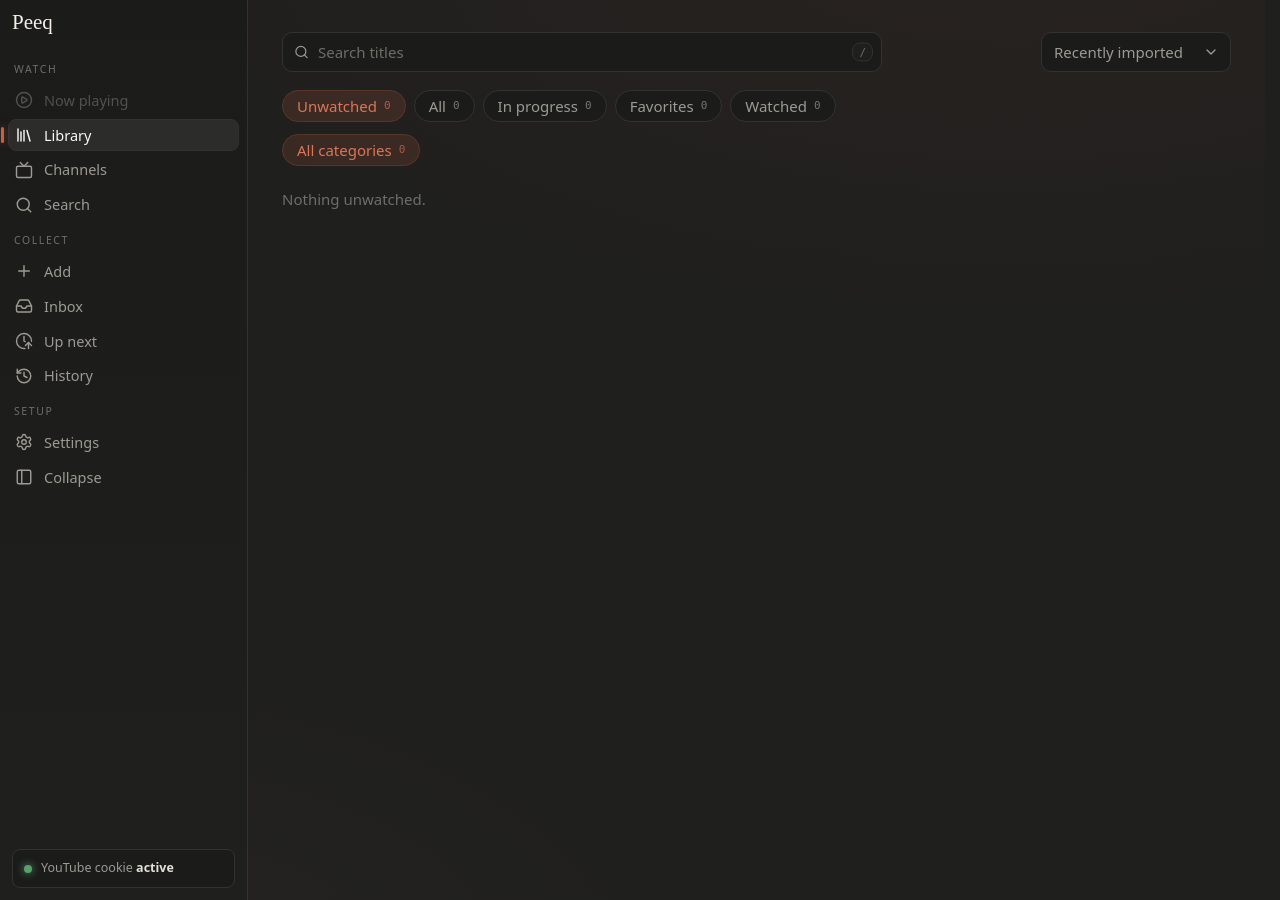
Test case: App dock bootstrap › refreshes the download queue after the Add view queues a video
Check: the button "Up next" is shown, box x1=8 y1=325 x2=239 y2=357
Click the button "Add": coordinates (124, 271) x1=8 y1=255 x2=239 y2=288
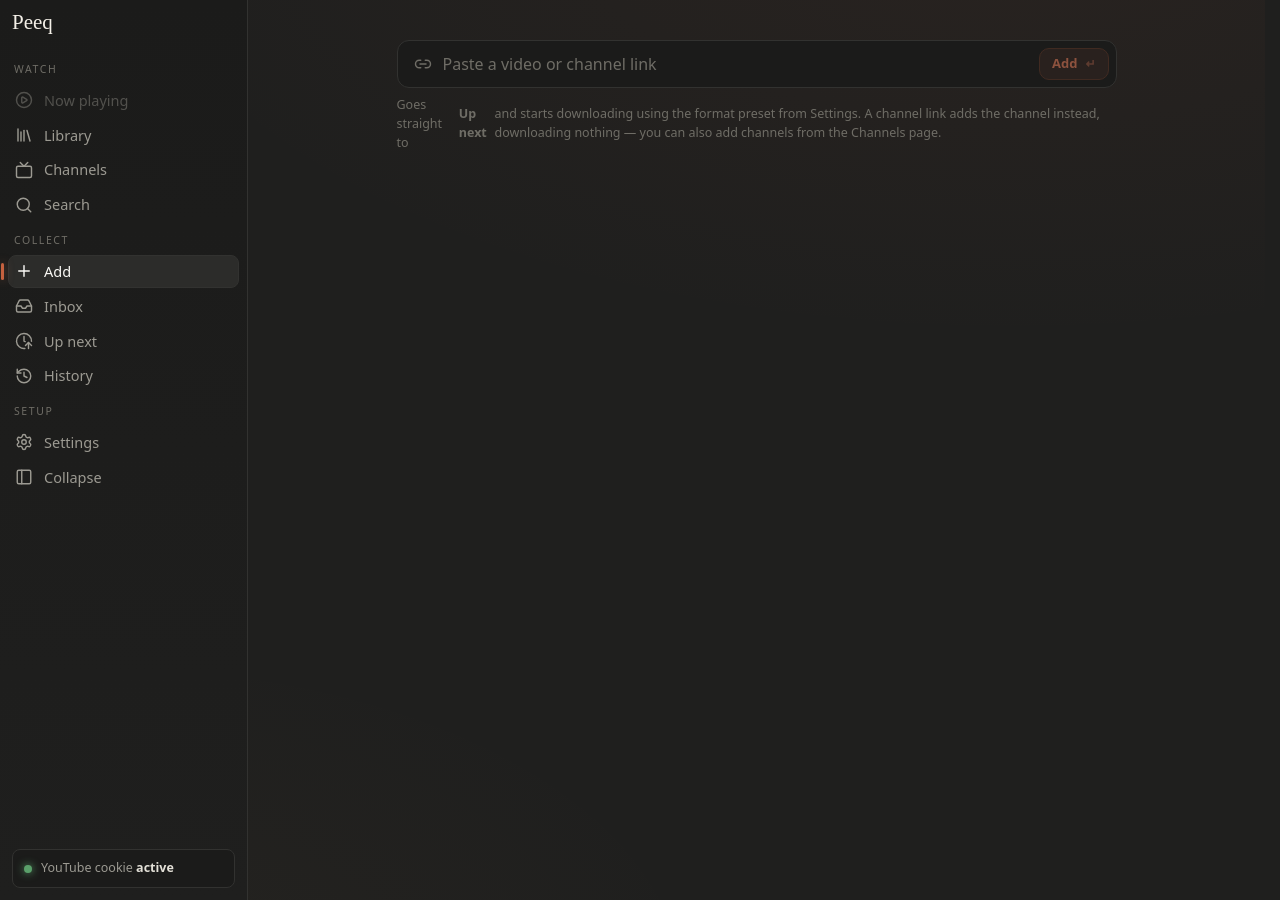
In the field named "Video or channel URL": coordinates (736, 64) x1=442 y1=52 x2=1029 y2=76, type "https://www.youtube.com/watch?v=vynCRZwkWhE&t=68s"
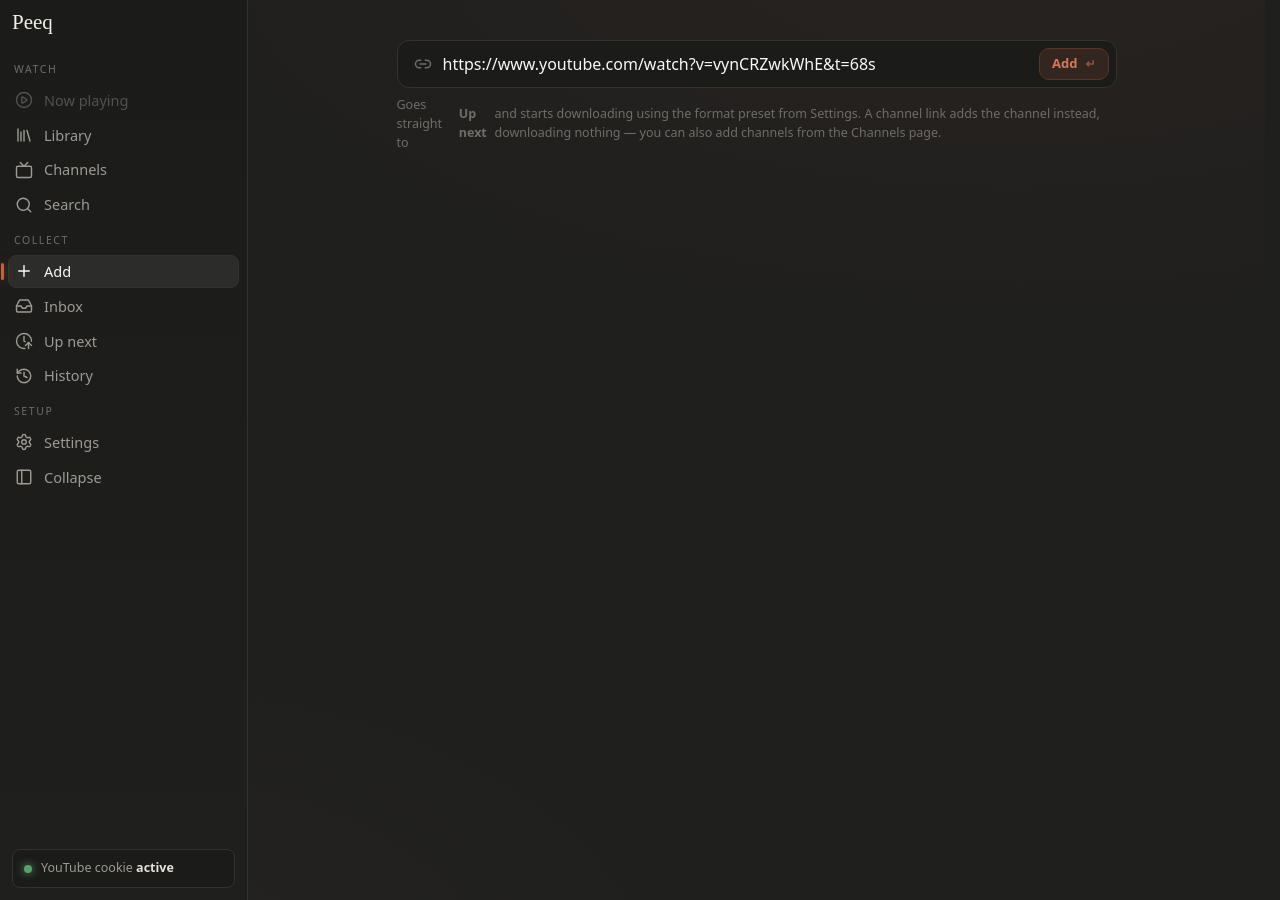
Click the button "Add ↵": coordinates (1074, 64) x1=1039 y1=48 x2=1108 y2=80
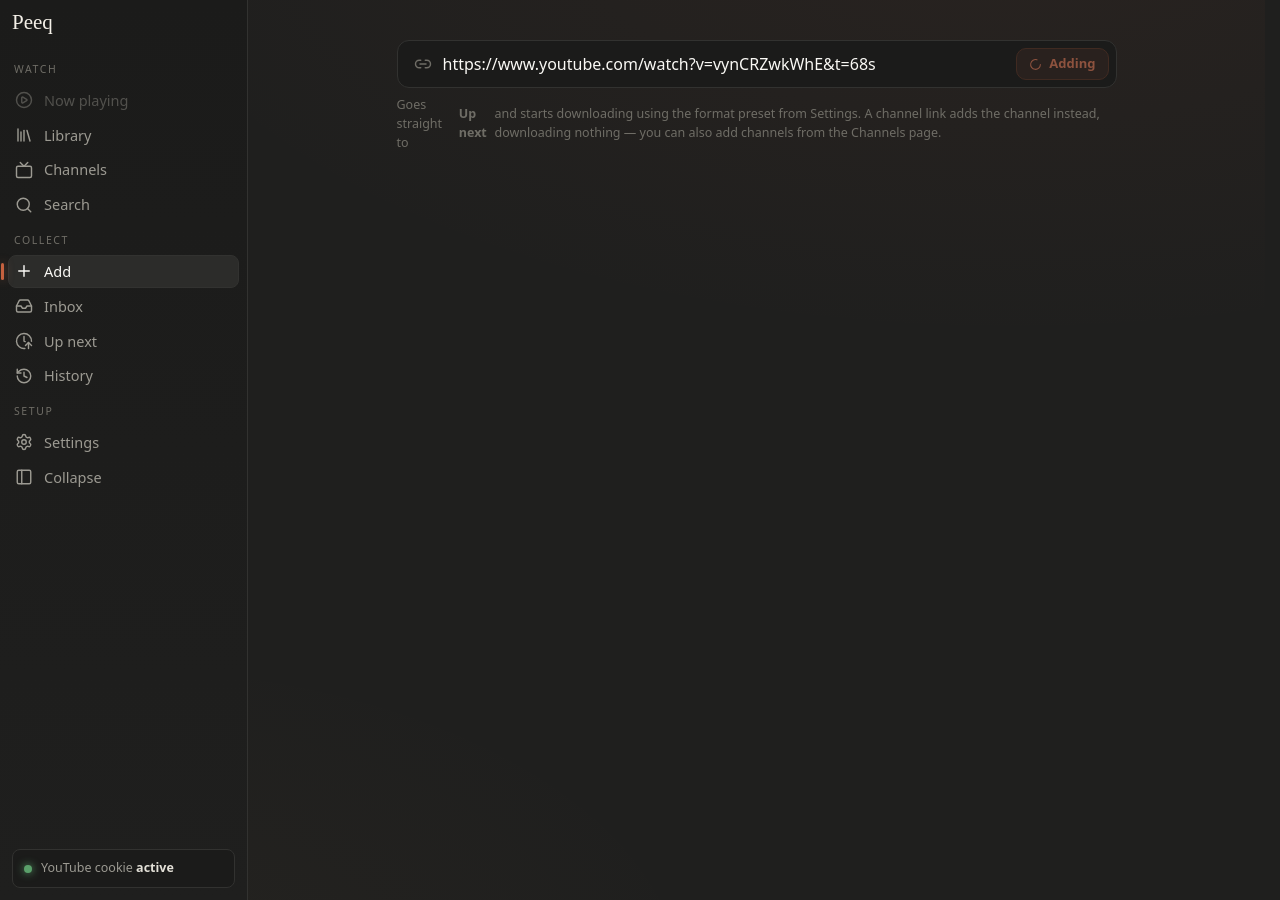
Click the button "Up next": coordinates (124, 341) x1=8 y1=325 x2=239 y2=357
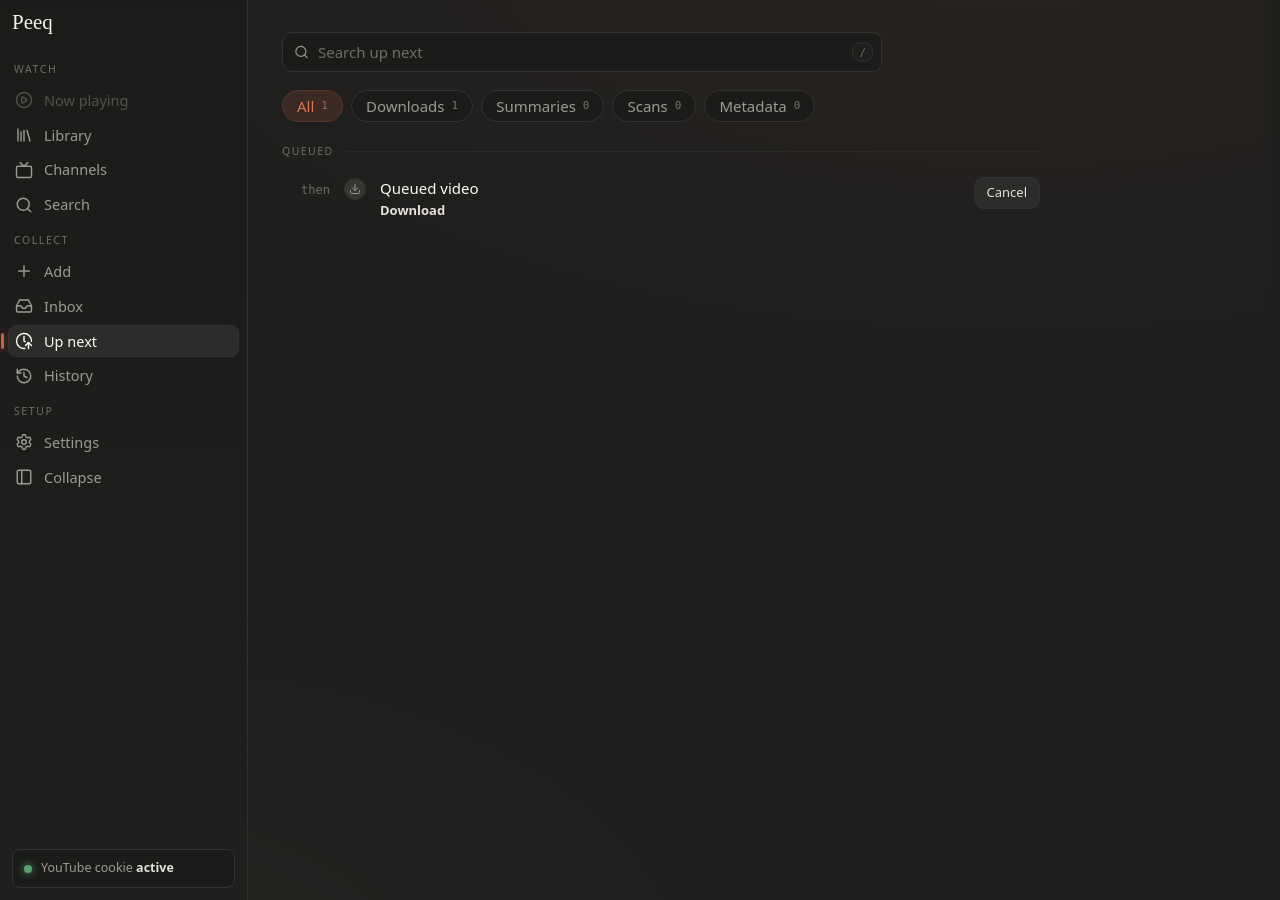
Check: the button "Queued video" is shown, box x1=380 y1=177 x2=479 y2=199
